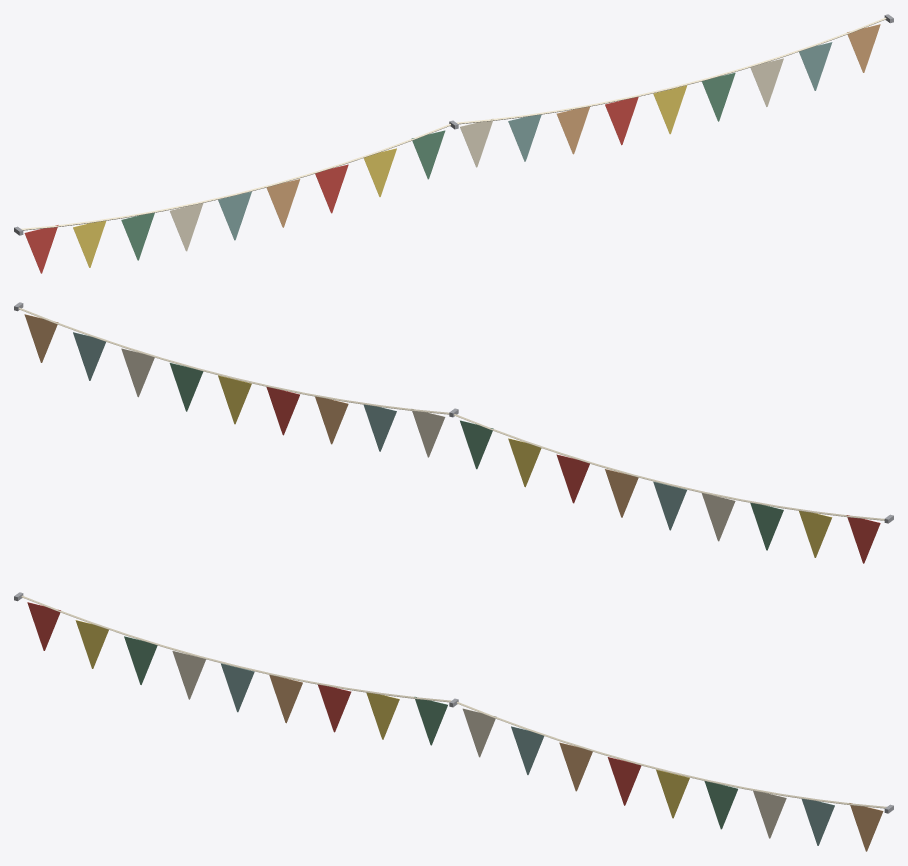
File: bunting.glb
The picture shows the model from 3 angles, top to bottom: view 1: azimuth 30°, elevation 25°; view 2: azimuth 150°, elevation 25°; view 3: azimuth 330°, elevation 25°; orthographic projection.
Parts seen in each view (by area): view 1: Bunting; view 2: Bunting; view 3: Bunting.
Part boxes in pixels (x1,y1,x2,y2): Bunting: (14,14,893,273); Bunting: (14,302,893,563); Bunting: (14,592,893,851).
Bounding box in the file's own units: 3.62 × 0.258 × 0.04.
